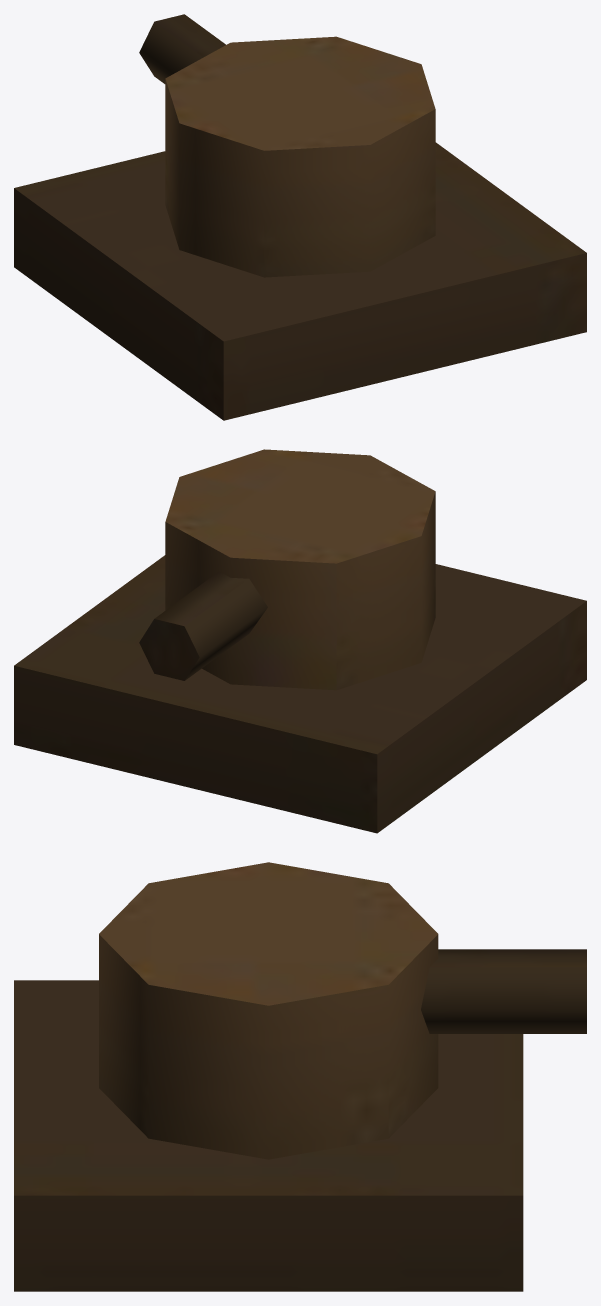
Rendered from gun-turret.glb.
3 renders of one model, top to bottom at view 1: azimuth 30°, elevation 25°; view 2: azimuth 150°, elevation 25°; view 3: azimuth 270°, elevation 25°, orthographic. The views are drawn at different scales.
Parts seen in each view (by area): view 1: gun-turret; view 2: gun-turret; view 3: gun-turret.
Boxes of the visible parts, <box> form: gun-turret: <box>14,14,586,420</box>; gun-turret: <box>14,449,586,833</box>; gun-turret: <box>14,862,586,1291</box>.
Bounding box in the file's own units: 0.24 × 0.13 × 0.27.
Materials: 1 (1 with a texture image).
